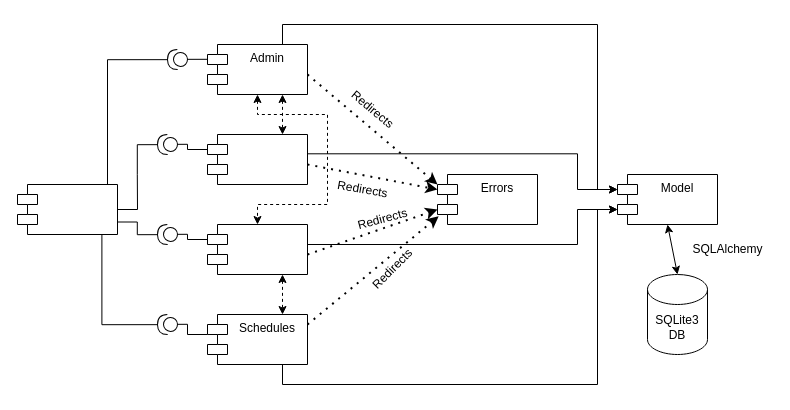
Some shapes in this 790 by 410 pixel diagram are drawn without their labels. Each missing label, with the centre of its shape:
Auth: (x=257, y=159)
Client: (x=67, y=209)
Reports: (x=257, y=249)
